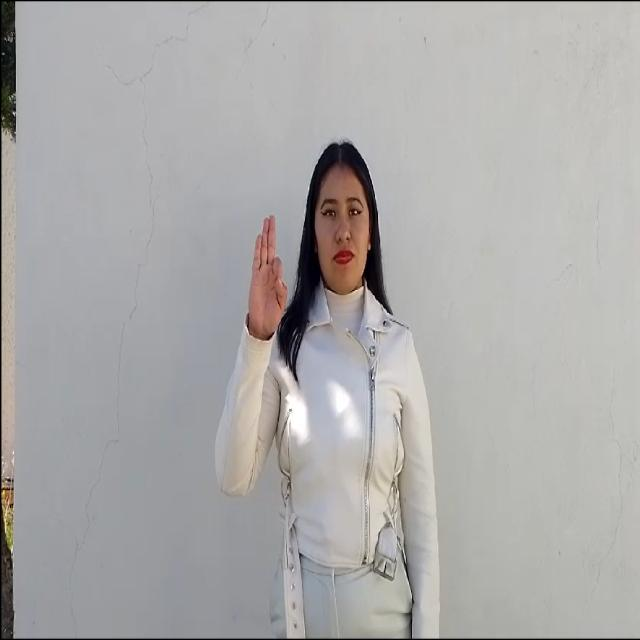F: (234, 200, 292, 350)
